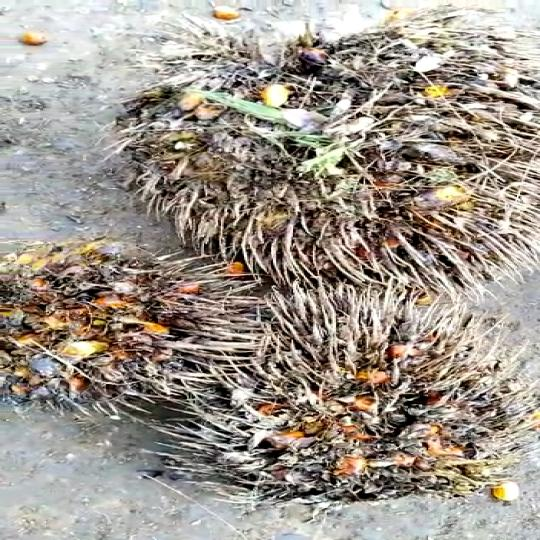terlalu masak: (112, 30, 540, 285), (148, 288, 514, 509), (0, 237, 136, 314)
